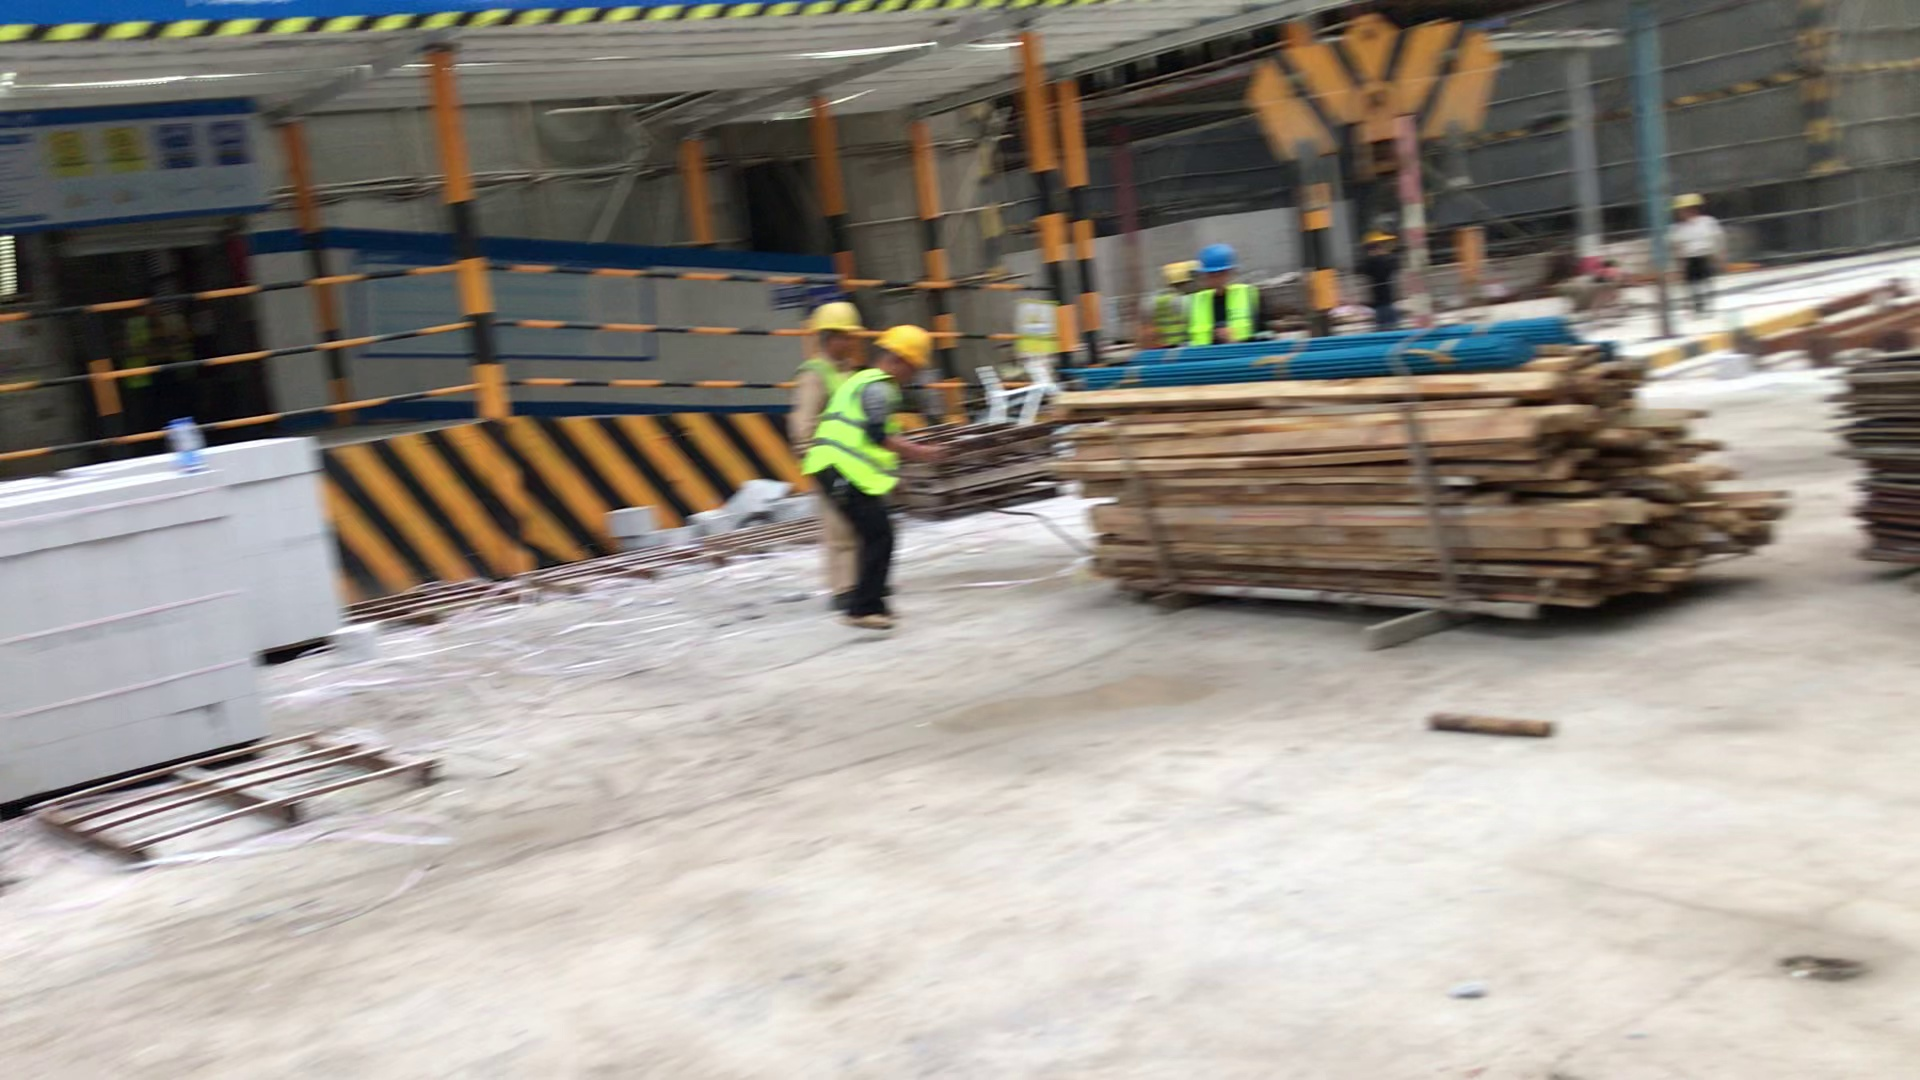board: (1846, 349, 1920, 558)
brick: (1, 467, 336, 770)
ebox: (1461, 223, 1489, 297)
helmet: (874, 326, 928, 371), (809, 303, 861, 334), (1195, 246, 1238, 272), (1671, 195, 1705, 208)
hook: (1244, 18, 1497, 210)
person: (815, 326, 928, 633), (801, 303, 859, 604), (1183, 246, 1269, 350), (1667, 195, 1728, 331), (1148, 265, 1186, 350)
vest: (821, 374, 905, 492), (1195, 287, 1257, 350)
wood: (1078, 366, 1754, 607)
